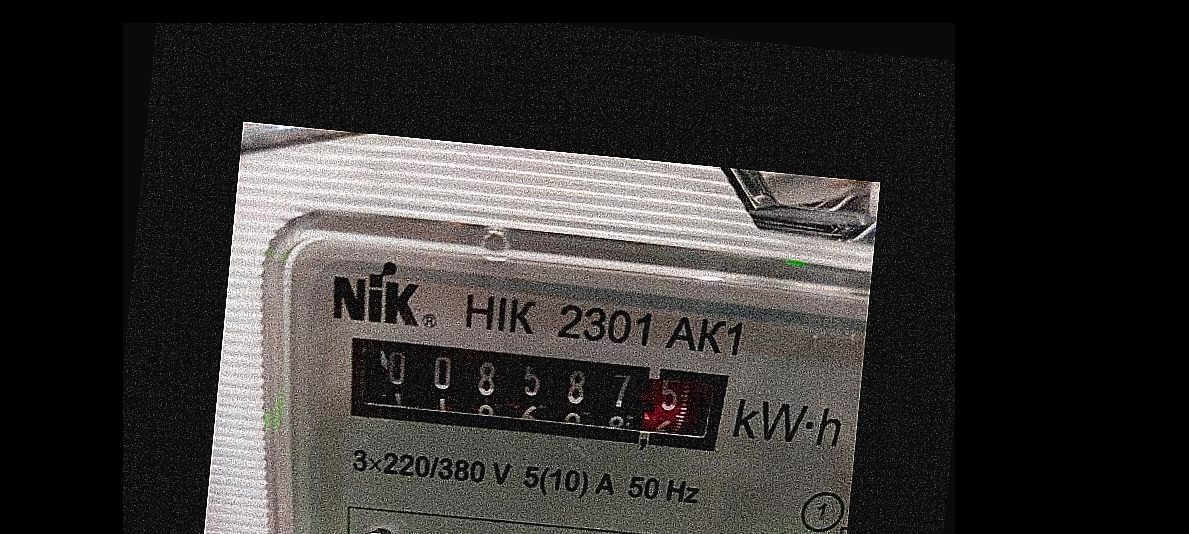0: (429, 351, 456, 393)
1: (383, 347, 411, 390)
5: (657, 374, 684, 416), (519, 361, 546, 401)
7: (608, 370, 634, 413)
8: (472, 357, 501, 401), (564, 366, 589, 409)
screen: (323, 317, 751, 475)
